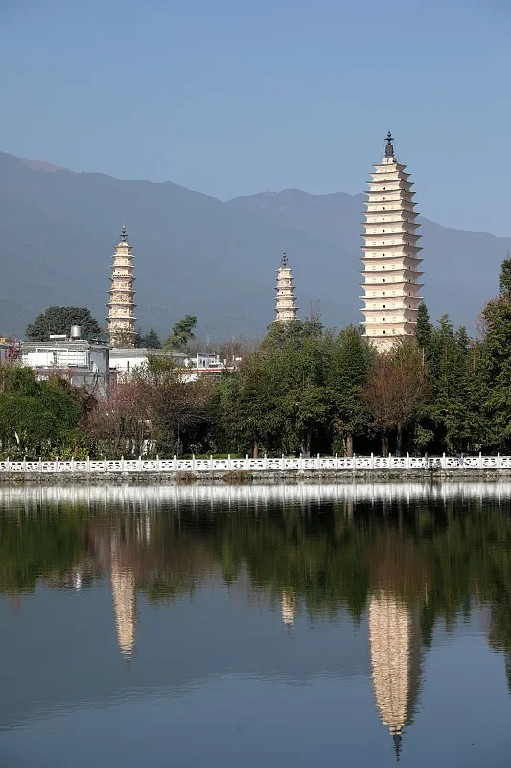ThreePagoda: (359, 130, 425, 352)
